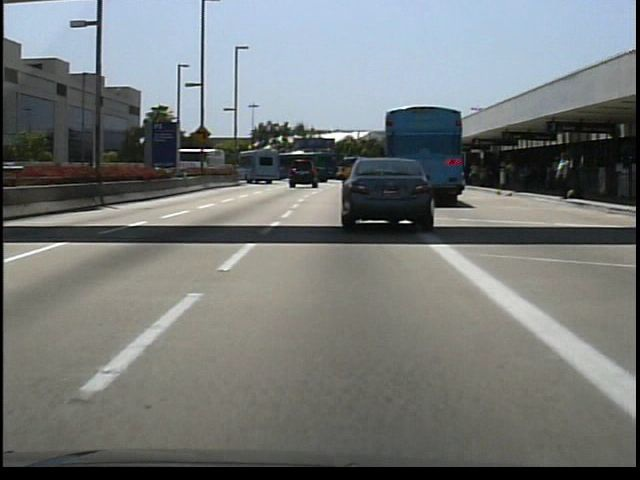person: (551, 151, 574, 201)
